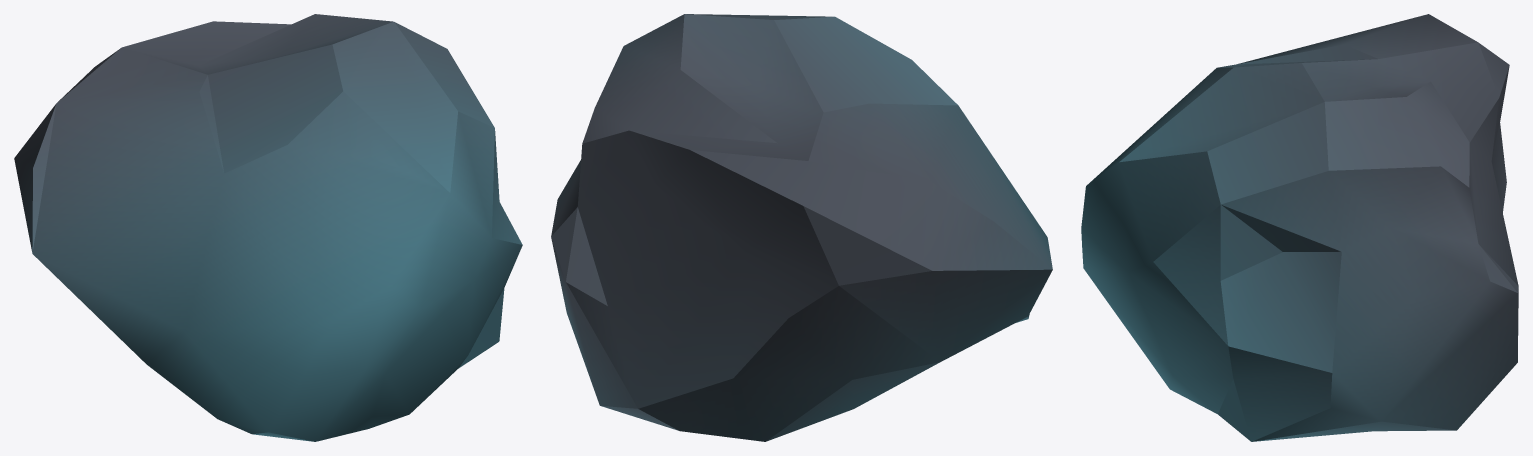
The model's file is Rock_1a.fbx.
3 views of the same model, side by side, from view 1: azimuth 30°, elevation 25°; view 2: azimuth 150°, elevation 25°; view 3: azimuth 270°, elevation 25° (orthographic). The views are drawn at different scales.
Parts seen in each view (by area): view 1: Rock_1a; view 2: Rock_1a; view 3: Rock_1a.
Part boxes in pixels (<box>): Rock_1a: <box>14,14,522,441</box>; Rock_1a: <box>551,14,1052,441</box>; Rock_1a: <box>1081,14,1518,441</box>.
Size of the model in its own units: 40.89 by 30.59 by 34.55.
